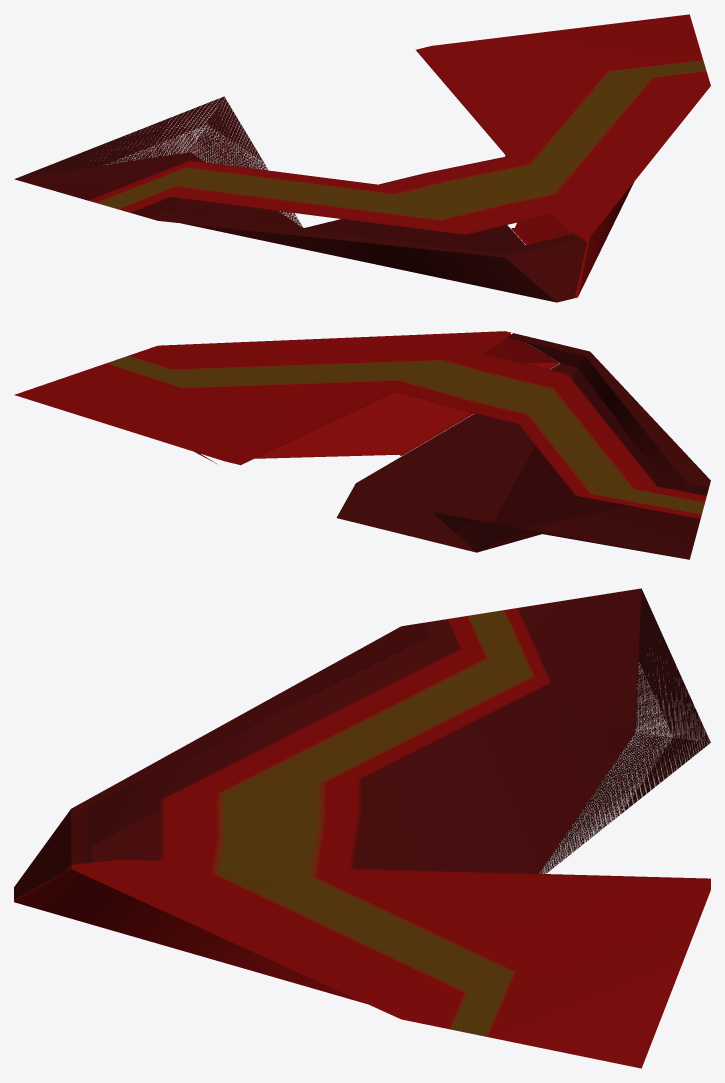
File: body2_army2.obj
3 renders of one model, top to bottom at view 1: azimuth 30°, elevation 25°; view 2: azimuth 150°, elevation 25°; view 3: azimuth 270°, elevation 25°, orthographic. The views are drawn at different scales.
Visible parts, largest first — view 1: Body2; view 2: Body2; view 3: Body2.
Boxes of the visible parts, left/top/right/bottom form: Body2: left=14, top=14, right=710, bottom=302; Body2: left=14, top=331, right=710, bottom=559; Body2: left=14, top=588, right=710, bottom=1068.
Bounding box in the file's own units: 11.82 × 1.51 × 7.25.
Materials: 1 (1 with a texture image).
